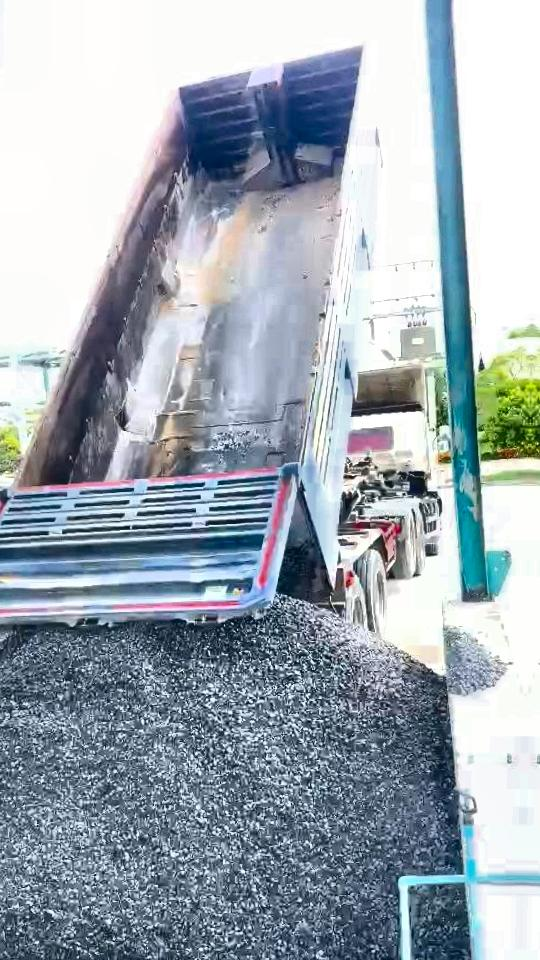gravel: (0, 600, 460, 960), (445, 626, 506, 695), (417, 890, 467, 960), (0, 630, 7, 707)
